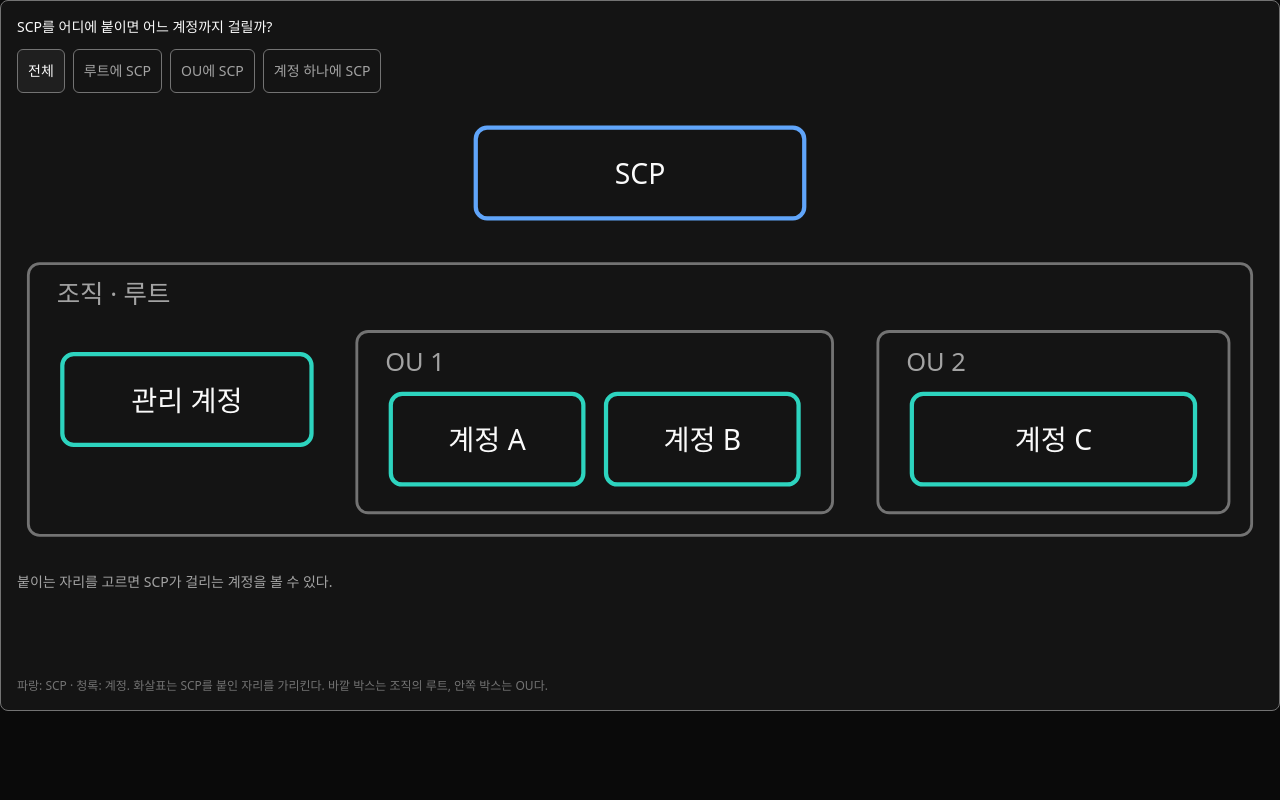
Test: OrgScpScopeDiagram › 가로형 (768px 이상) › OU에 SCP: 세로형과 같은 노드·경로·곁말·캡션을 보이고 곁말은 루트 안에서 노드·그룹·경로와 겹치지 않는다
This screenshot has width=1280, height=800.
Step 1. Click the button "OU에 SCP" → [212, 71], box [170,49,255,93]
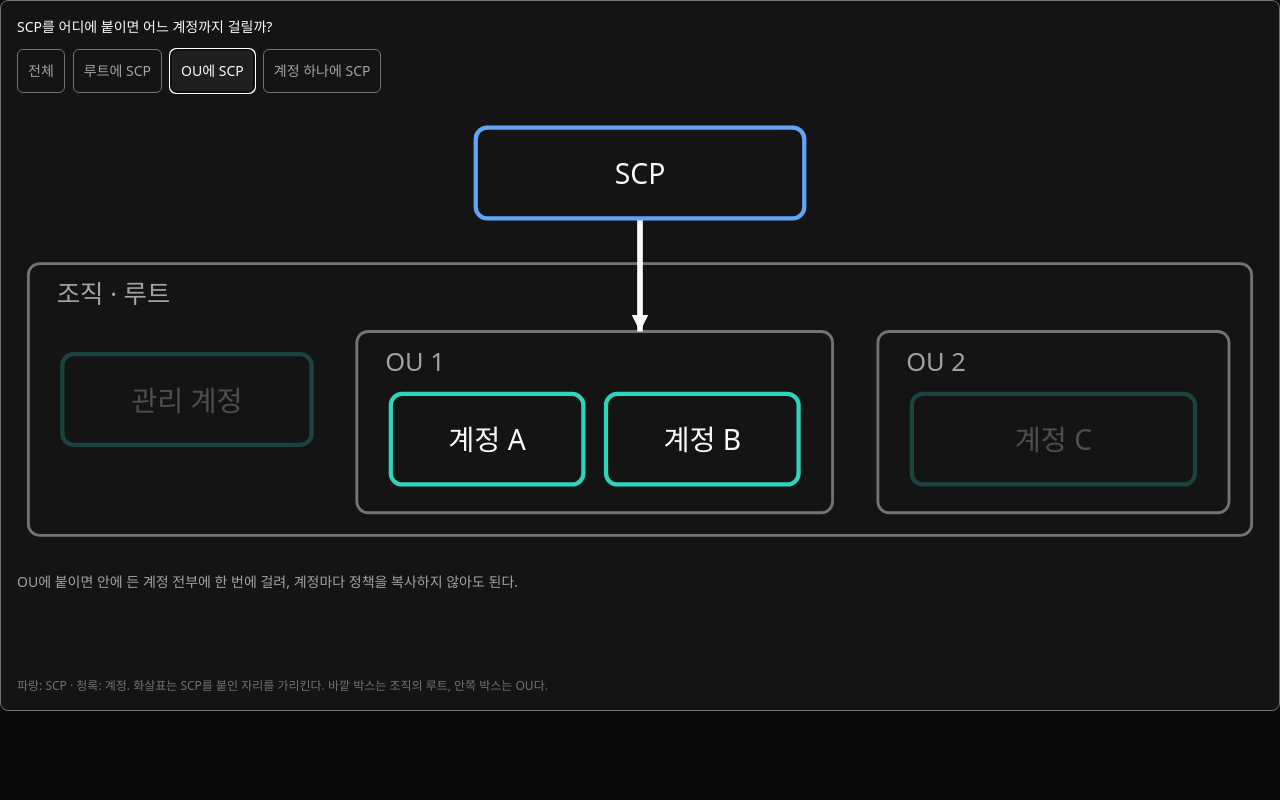
Result: the text "OU에 붙이면 안에 든 계정 전부에 한 번에 걸려, 계정마다 정책을 복사하지 않아도 된다." is shown at [17,572,518,591]
